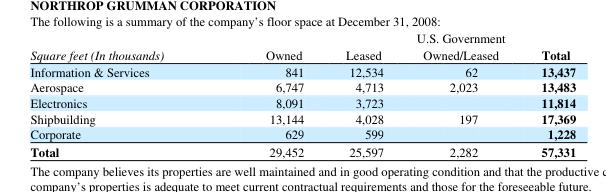table: (29, 29, 575, 160)
table column: (29, 29, 214, 160), (399, 29, 522, 160), (214, 29, 324, 160), (324, 29, 399, 160), (522, 29, 575, 160)
table column header: (29, 29, 575, 62)
table row: (29, 29, 575, 62), (29, 142, 575, 160), (29, 62, 575, 79), (29, 94, 575, 110), (29, 110, 575, 126), (29, 126, 575, 142), (29, 79, 575, 94)
